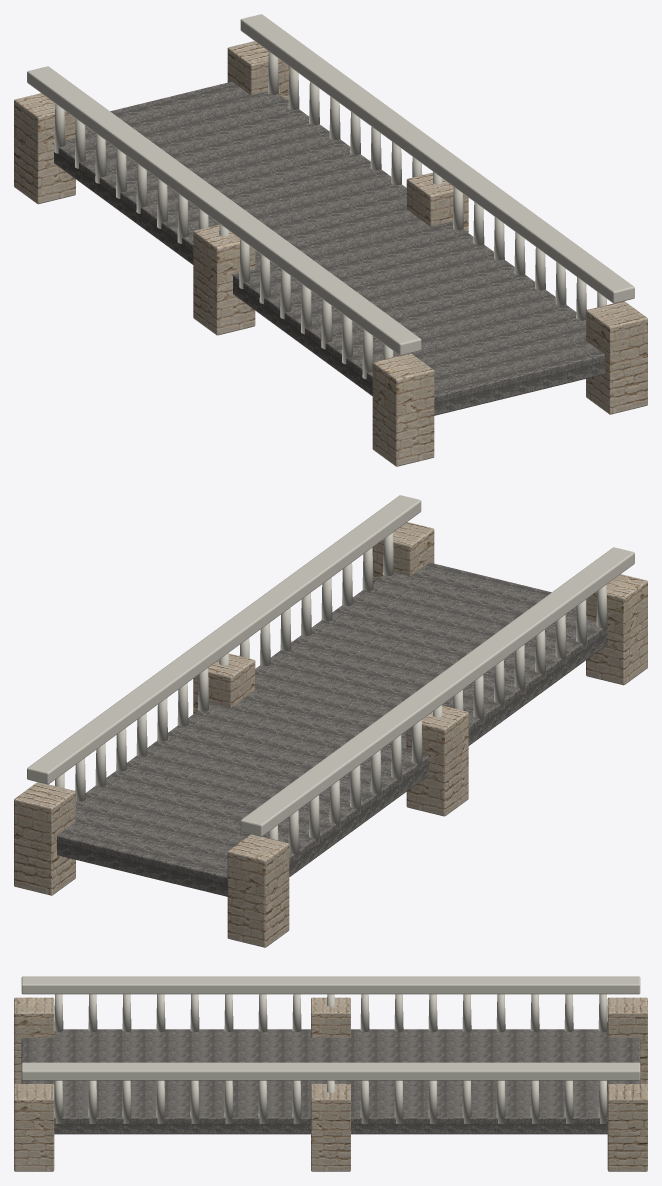
Rendered from creek-bridge.glb.
The picture shows the model from 3 angles, top to bottom: view 1: azimuth 30°, elevation 25°; view 2: azimuth 150°, elevation 25°; view 3: azimuth 270°, elevation 25°; orthographic projection. The views are drawn at different scales.
Parts seen in each view (by area): view 1: creek-bridge; view 2: creek-bridge; view 3: creek-bridge.
Part boxes in pixels (x1,y1,x2,y2): creek-bridge: (14,14,647,466); creek-bridge: (14,495,647,947); creek-bridge: (14,976,647,1171).
Size of the model in its own units: 3.9 by 1.74 by 10.25.
Materials: 3 (2 with a texture image).
